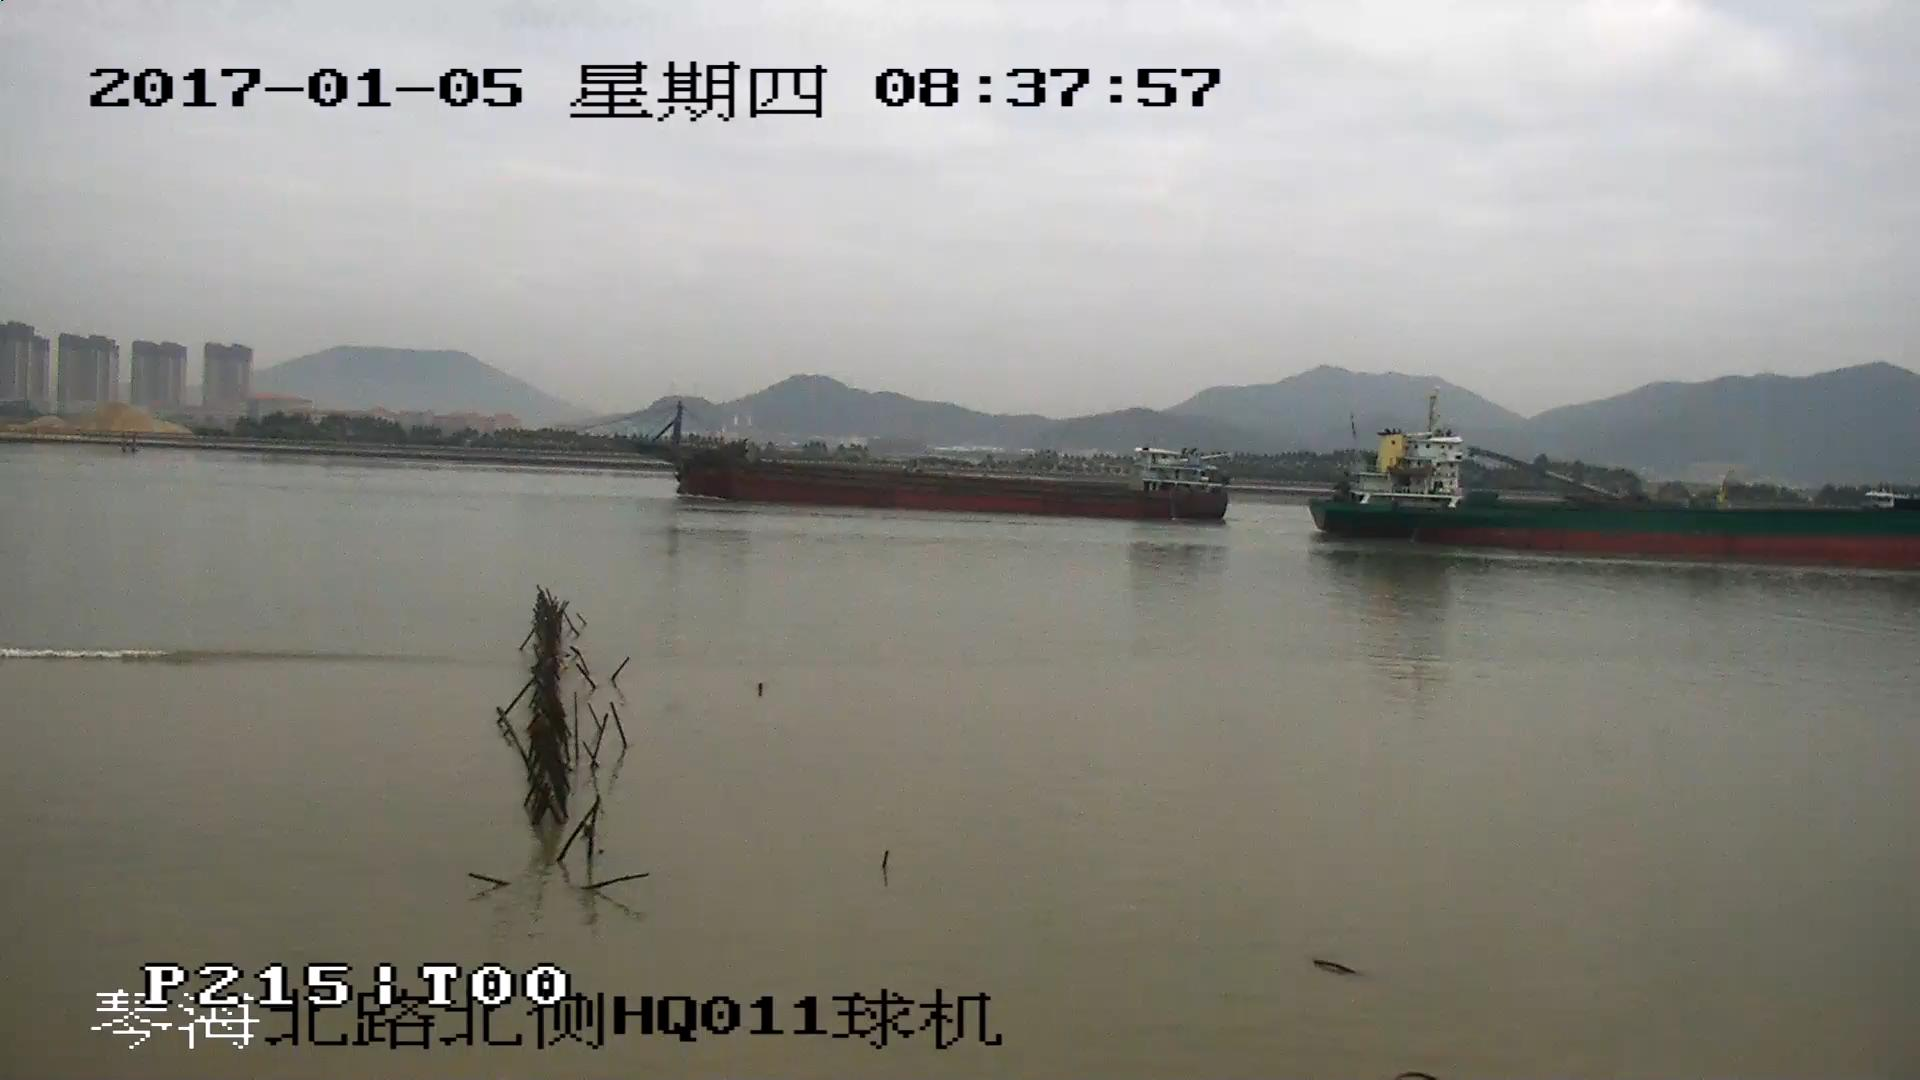bulk cargo carrier: (590, 410, 1227, 522)
general cargo ship: (1314, 402, 1920, 564)
